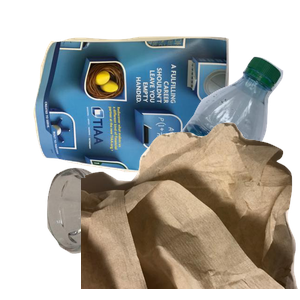glass: (44, 165, 178, 300)
paper: (31, 34, 252, 205)
plastic: (142, 54, 300, 234)
trash: (81, 120, 300, 300)
